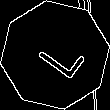L_NW: (26, 28, 84, 82)
